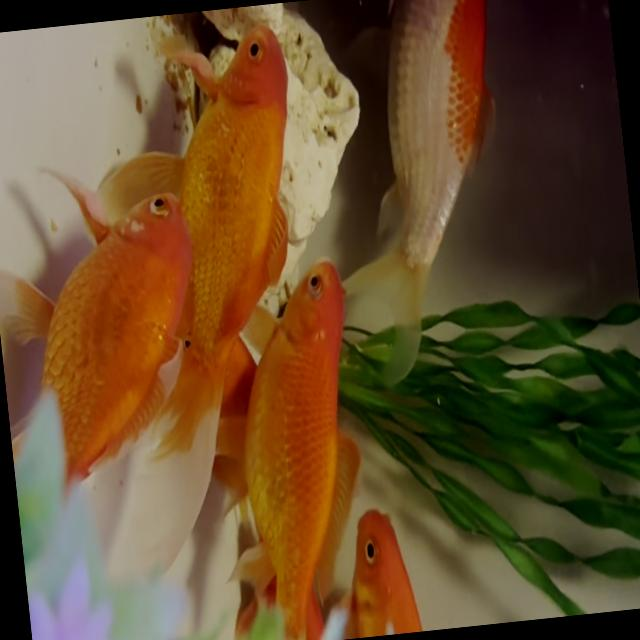fish: (307, 0, 521, 380), (0, 169, 219, 512), (210, 247, 380, 640), (180, 3, 376, 302), (332, 500, 453, 639)
